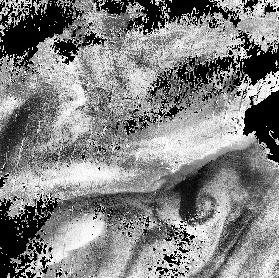CE: (193, 192, 219, 220)
